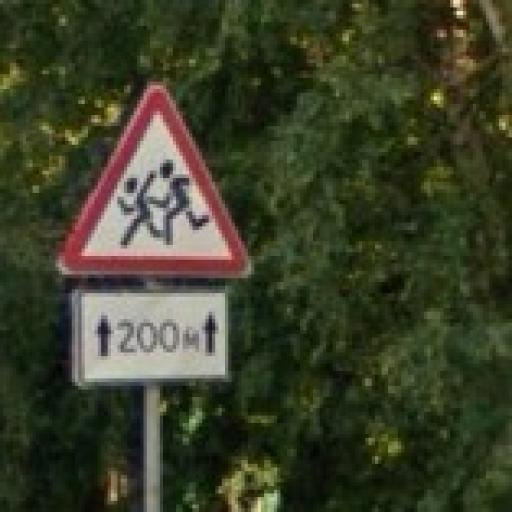traffic_sign: (57, 83, 252, 283)
